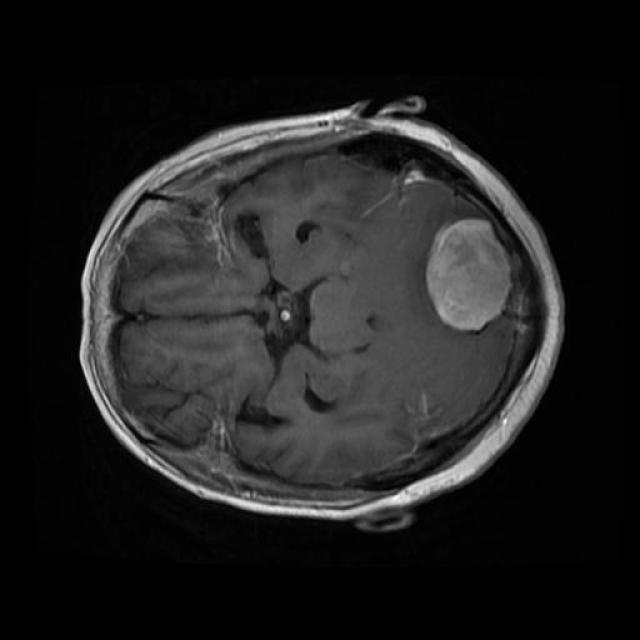Meningioma: (426, 219, 511, 331)
